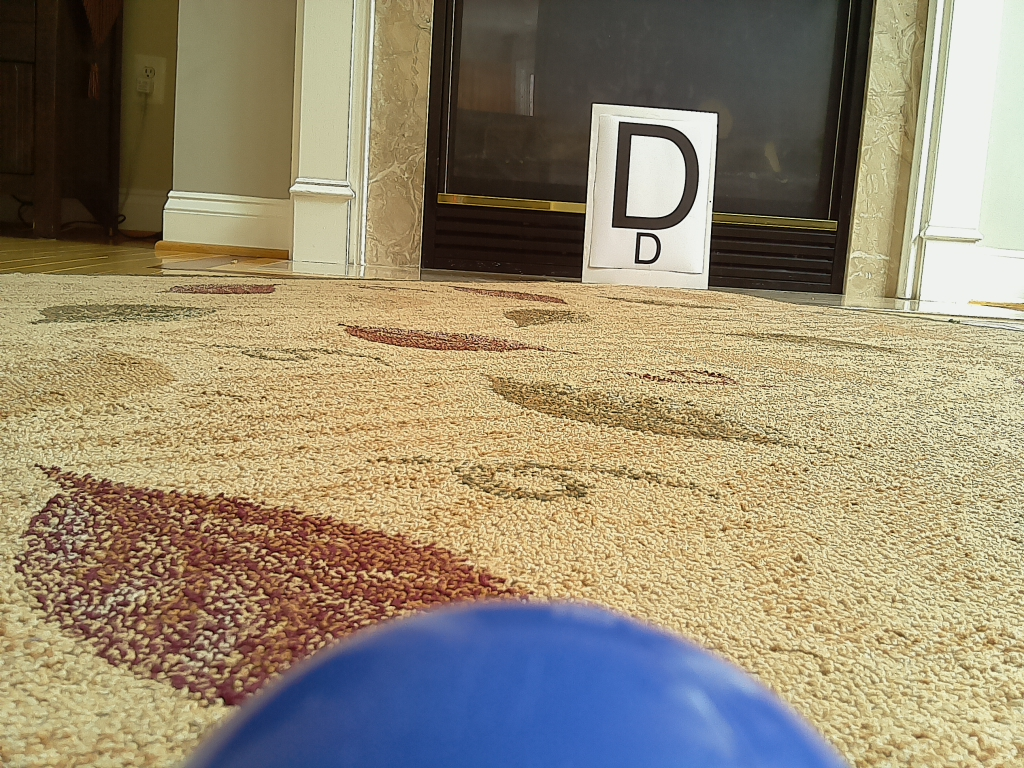letter: (617, 123, 700, 229)
